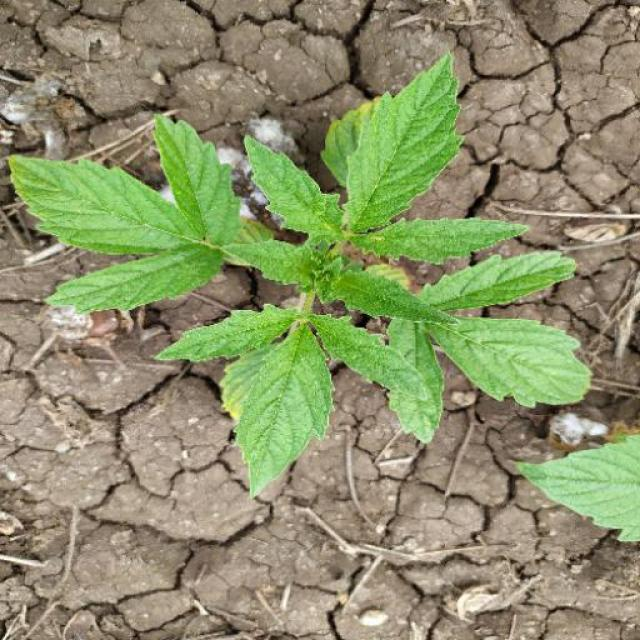crop: (8, 62, 596, 528)
